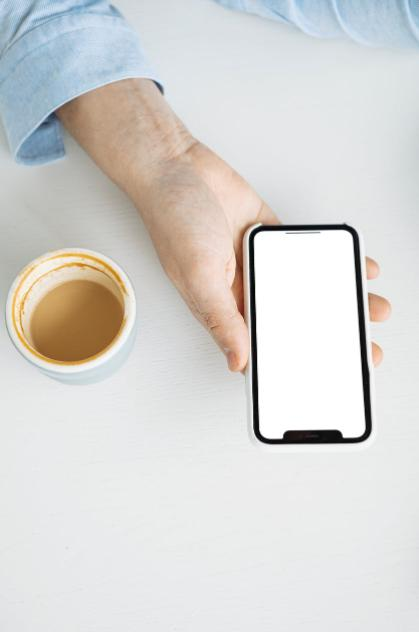mobile: (243, 223, 374, 447)
